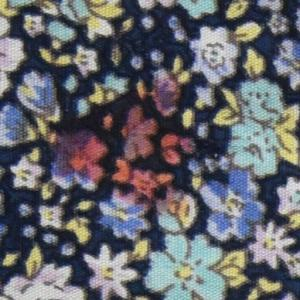Stain: (39, 68, 205, 209)
